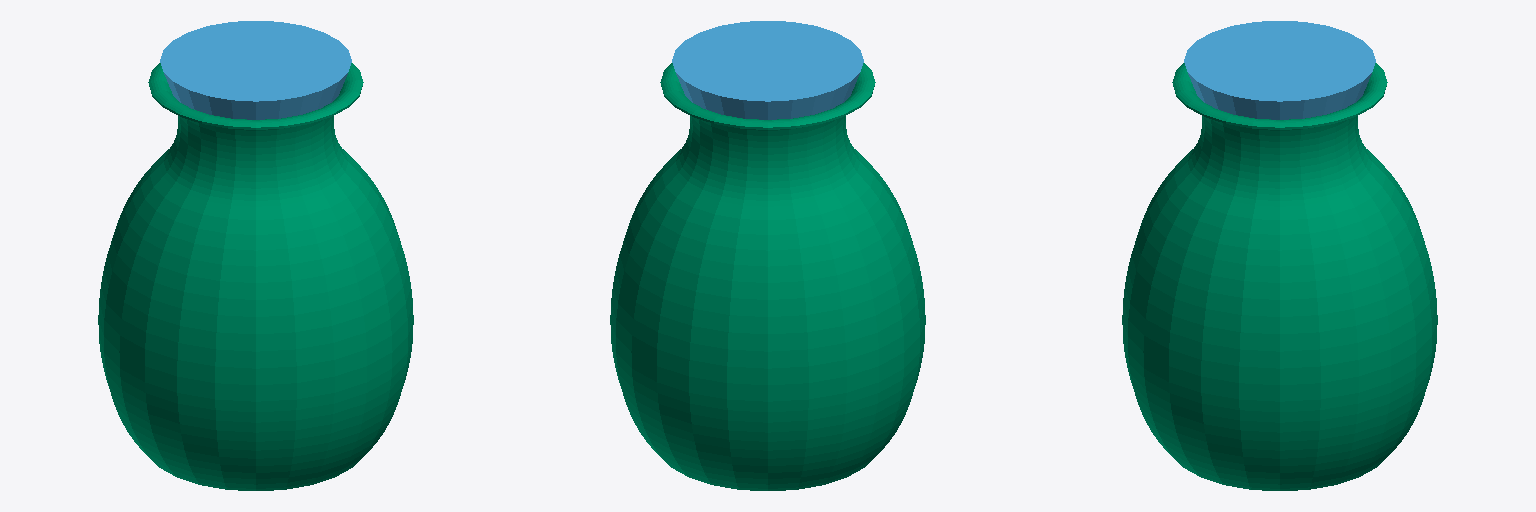
robot.urdf — partnet_19fb5ee10bc867a492ffc535cab01f7a:
<?xml version="1.0" ?>
<robot name="partnet_19fb5ee10bc867a492ffc535cab01f7a">
	<link name="base"/>
	<link name="link_0">
		<visual name="lid-5">
			<origin xyz="-0.006548180609161166 0 -0.009928556381668577"/>
			<geometry>
				<mesh filename="textured_objs/original-2.obj"/>
			</geometry>
		</visual>
		<collision>
			<origin xyz="-0.006548180609161166 0 -0.009928556381668577"/>
			<geometry>
				<mesh filename="textured_objs/original-2.obj"/>
			</geometry>
		</collision>
	</link>
	<joint name="joint_0" type="prismatic">
		<origin xyz="0.006548180609161166 0 0.009928556381668577"/>
		<axis xyz="0 1 0"/>
		<child link="link_0"/>
		<parent link="link_1"/>
		<limit lower="0" upper="0.07600000000000007"/>
	</joint>
	<link name="link_1">
		<visual name="container-6">
			<origin xyz="0 0 0"/>
			<geometry>
				<mesh filename="textured_objs/new-1.obj"/>
			</geometry>
		</visual>
		<visual name="container-6">
			<origin xyz="0 0 0"/>
			<geometry>
				<mesh filename="textured_objs/new-0.obj"/>
			</geometry>
		</visual>
		<collision>
			<origin xyz="0 0 0"/>
			<geometry>
				<mesh filename="textured_objs/new-1.obj"/>
			</geometry>
		</collision>
		<collision>
			<origin xyz="0 0 0"/>
			<geometry>
				<mesh filename="textured_objs/new-0.obj"/>
			</geometry>
		</collision>
	</link>
	<joint name="joint_1" type="fixed">
		<origin rpy="1.570796326794897 0 -1.570796326794897" xyz="0 0 0"/>
		<child link="link_1"/>
		<parent link="base"/>
	</joint>
</robot>

--- Facts derived from the render (not from the file) ---
The picture shows the robot from 3 angles, left to right: view 1: azimuth 30°, elevation 25°; view 2: azimuth 150°, elevation 25°; view 3: azimuth 270°, elevation 25°; orthographic projection.
Model partnet_19fb5ee10bc867a492ffc535cab01f7a with 3 links and 2 joints (1 prismatic, 1 fixed), rooted at base, posed all joints at 0.
Visible links, largest first — view 1: link_1, link_0; view 2: link_1, link_0; view 3: link_1, link_0.
Boxes of the visible links, x1,y1,x2,y2 form: link_1: (98,63,413,490); link_0: (160,21,351,119); link_1: (610,63,925,490); link_0: (672,21,863,119); link_1: (1122,63,1437,490); link_0: (1184,21,1375,119).
Size in the robot's own frame: 1.28 by 1.28 by 1.71 metres.
Meshes: 3 distinct files referenced, 3 mesh visuals loaded (3 OBJ).
